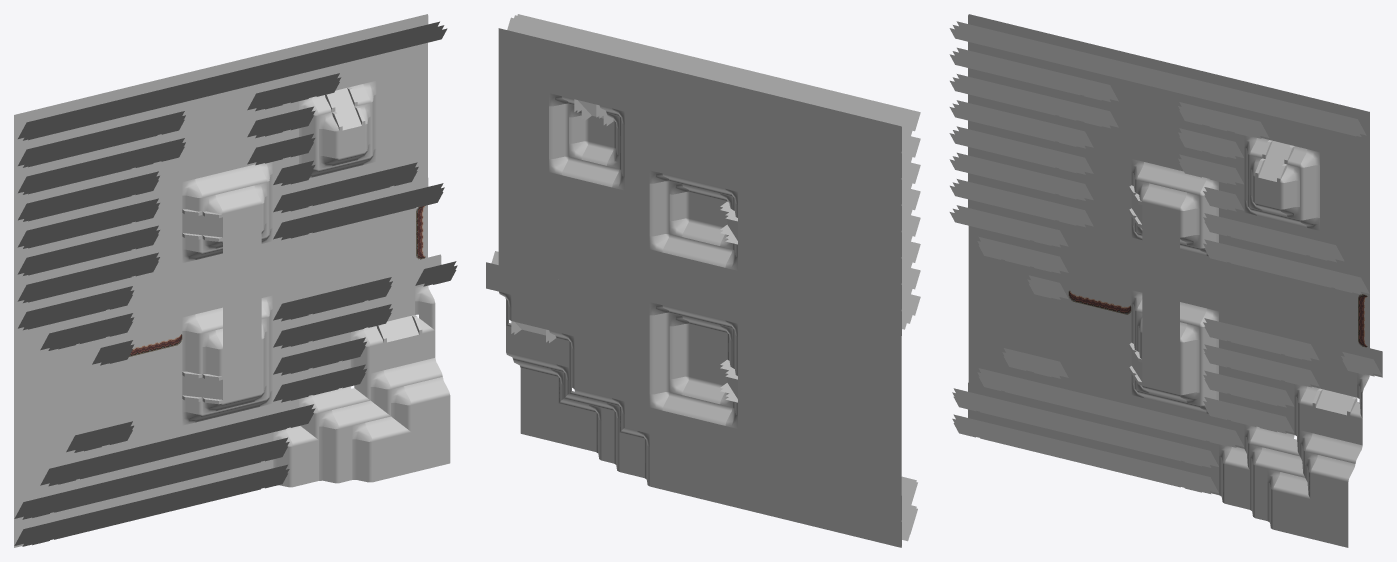
File: Plat_full_17_12.obj
3 views of the same model, side by side, from view 1: azimuth 30°, elevation 25°; view 2: azimuth 150°, elevation 25°; view 3: azimuth 330°, elevation 25° (orthographic). The views are drawn at different scales.
Parts seen in each view (by area): view 1: map; view 2: map; view 3: map.
Part boxes in pixels (left/top/right/bottom): map: left=14, top=14, right=457, bottom=547; map: left=486, top=14, right=920, bottom=547; map: left=949, top=14, right=1382, bottom=547.
Bounding box in the file's own units: 33.5 × 32.12 × 3.
